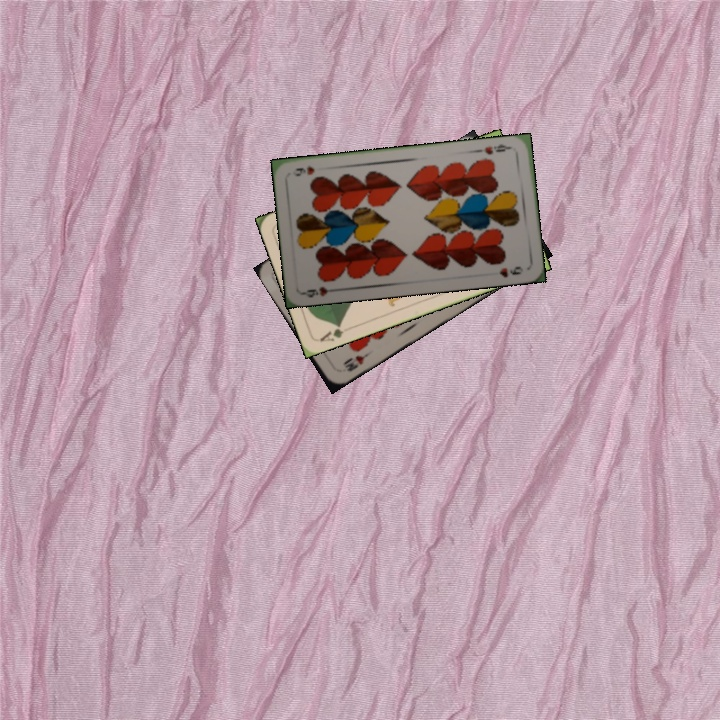GA: (316, 319, 346, 344)
H10: (338, 348, 372, 374)
H9: (300, 283, 340, 300), (475, 140, 515, 157)
